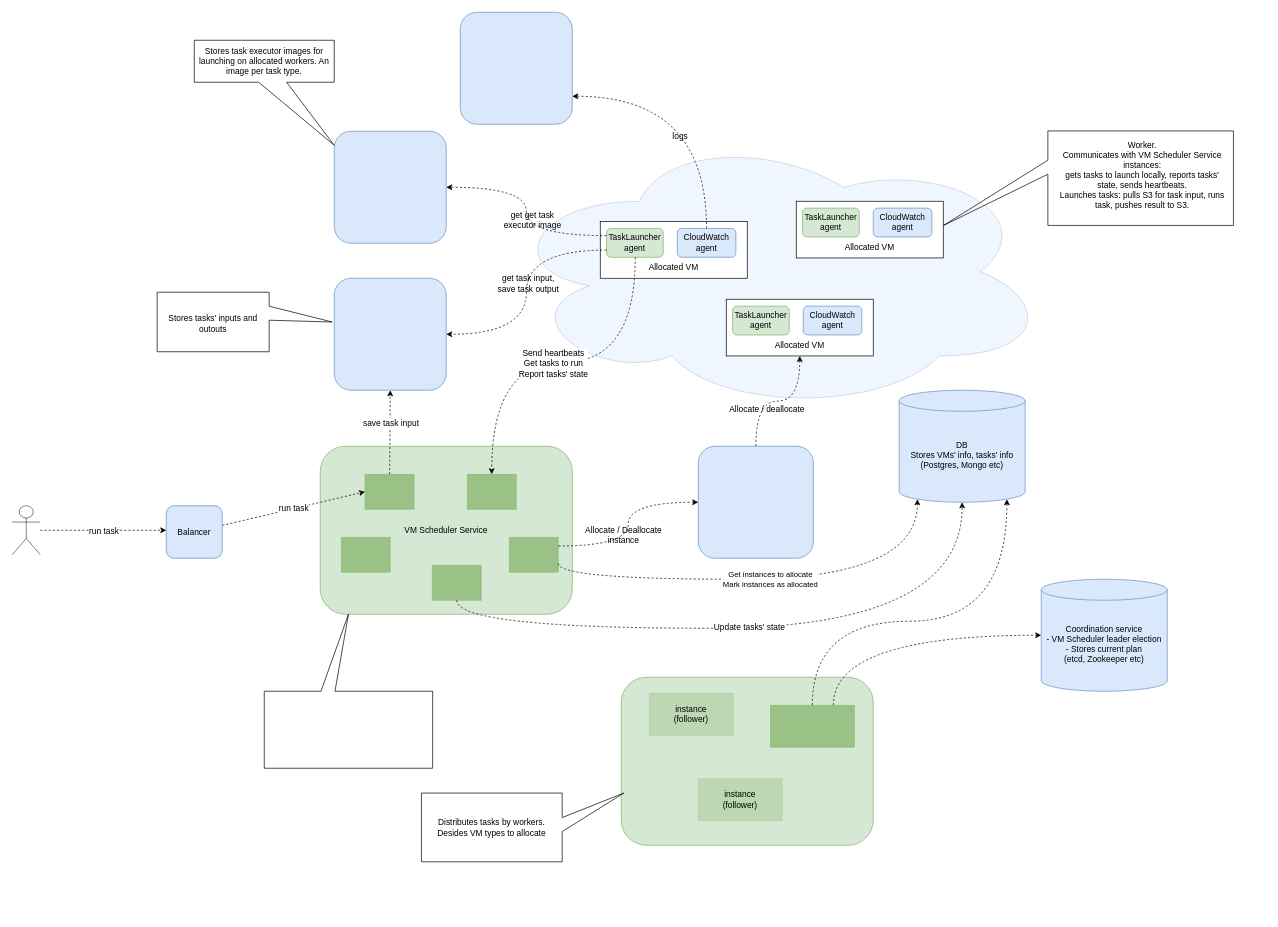
Image size: 1278x927. Some labels were removed from this diagram. Here are the shapes that lost their labels. From the top down, the box of each, then its label:
(460, 12, 572, 124): CloudWatch
(334, 131, 446, 243): DockerHub
(334, 278, 446, 390): S3
(698, 446, 813, 558): AWS
(264, 614, 433, 768): Responds to users' requests. Monitors workers. Allocates/deallocates instances
(770, 705, 854, 747): instance (leader)
(621, 677, 873, 845): VM Scheduler
